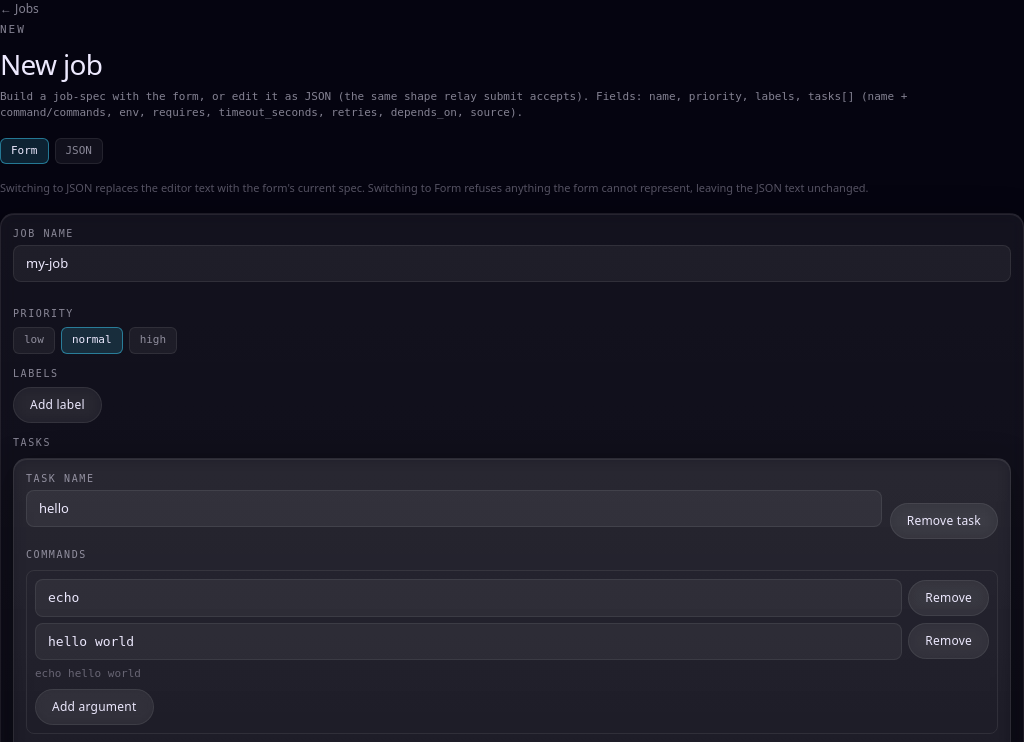
Test case: 413 oversize surfaces inline (same banner path)
This screenshot has width=1024, height=742.
Click the button "JSON".
click(79, 151)  # box [54, 138, 103, 164]
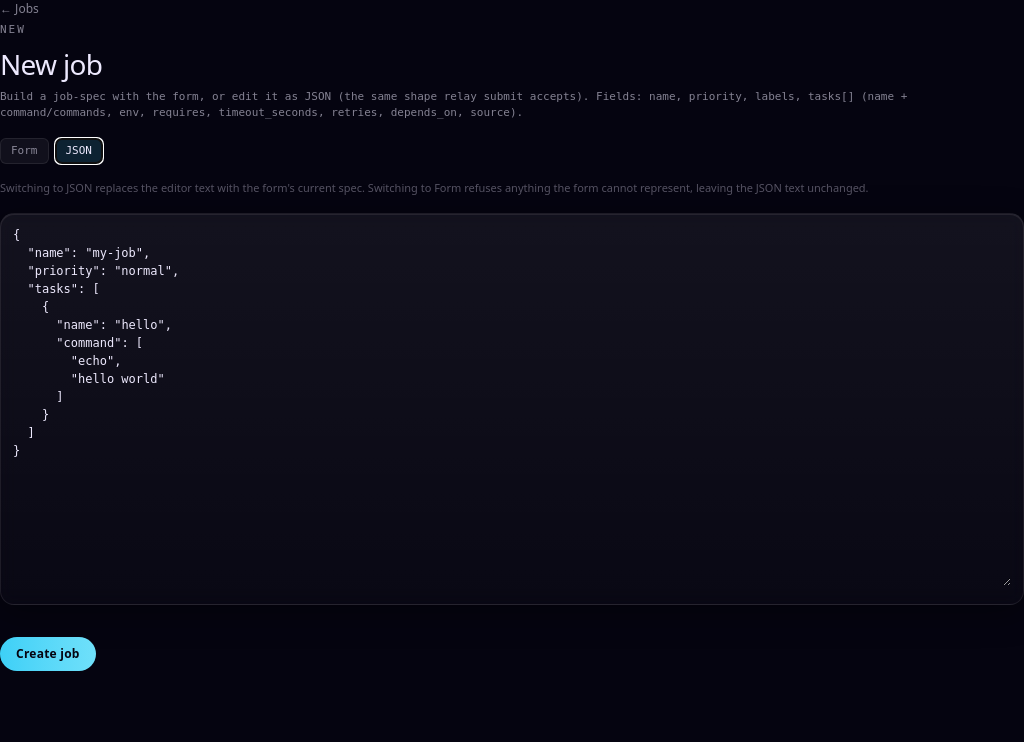
Click the button "Create job".
click(48, 654)  # box [0, 636, 96, 670]
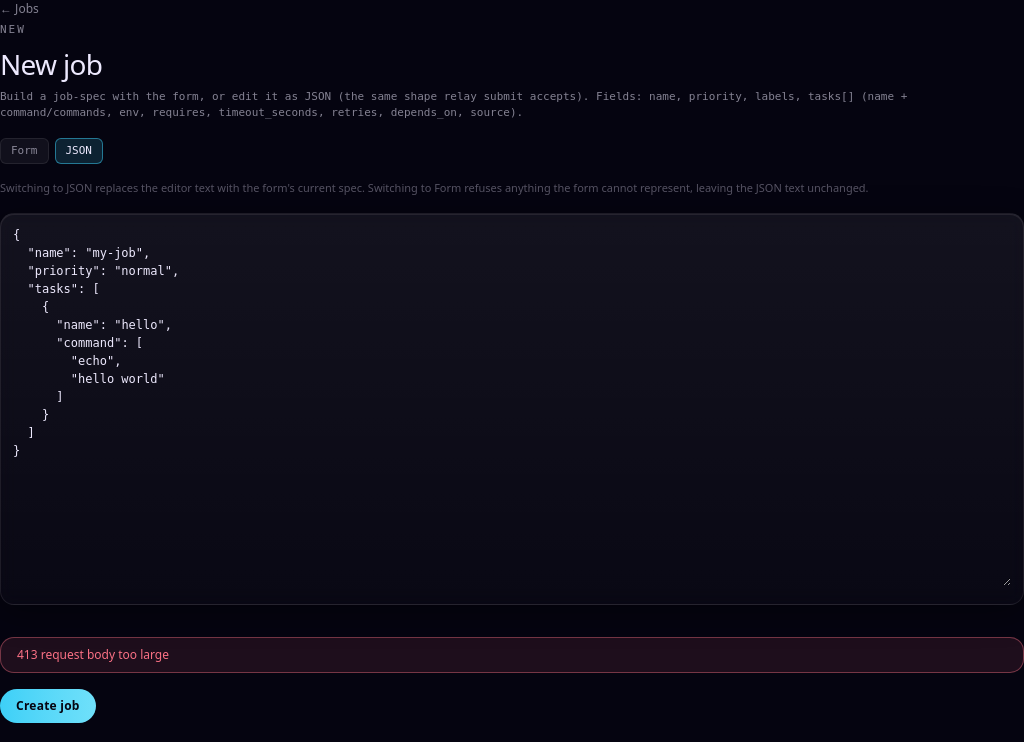
Result: the text "413 request body too large" is shown at [0, 636, 1023, 672]
